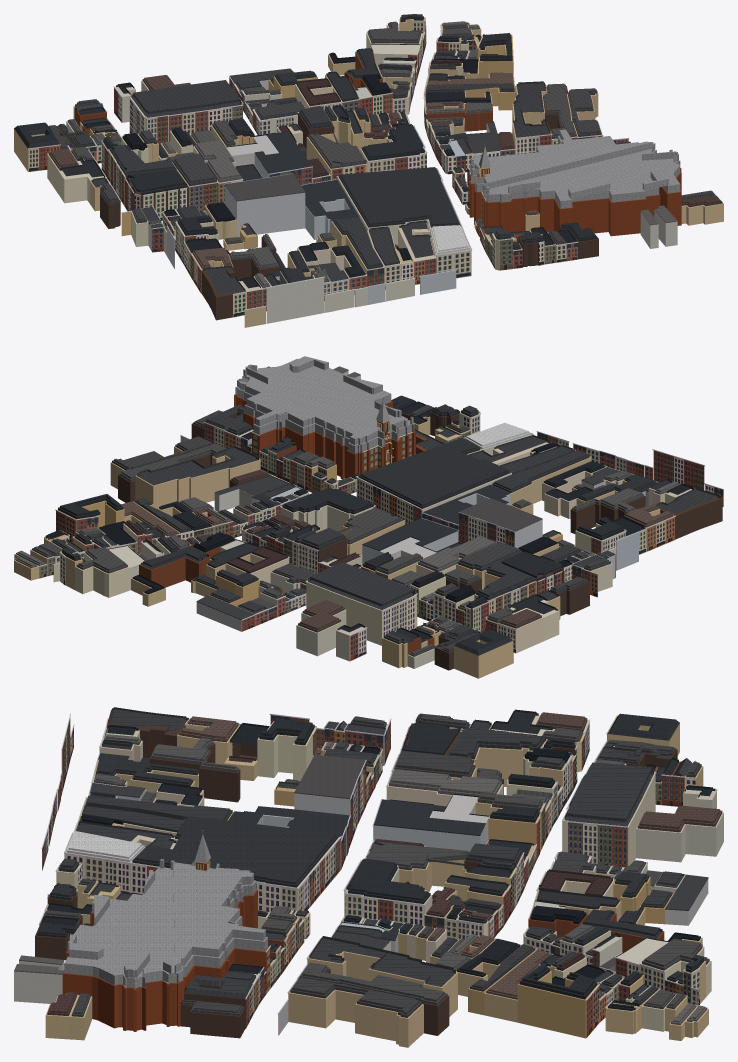
3 renders of one model, top to bottom at view 1: azimuth 30°, elevation 25°; view 2: azimuth 150°, elevation 25°; view 3: azimuth 270°, elevation 25°, orthographic. The views are drawn at different scales.
Parts seen in each view (by area): view 1: bldg_40092556, bldg_40092556_roof_b, bldg_40092556_roof_a, bldg_496053188_roof_b, bldg_496053185, bldg_496123695_roof_b, bldg_496113239_facade0, bldg_496053185_roof, bldg_496052396_roof, bldg_7283574_roof, bldg_495893580_roof_b, bldg_496045627_roof_b (+40 smaller); view 2: bldg_40092556_roof_b, bldg_40092556_roof_a, bldg_496053188_roof_b, bldg_40092556, bldg_495893580, bldg_496123695_roof_b, bldg_496123695, bldg_7285972, bldg_496113239_facade0, bldg_496119452, bldg_496053185_roof, bldg_496052396_roof (+53 smaller); view 3: bldg_40092556_roof_a, bldg_40092556_roof_b, bldg_496053188_roof_b, bldg_40092556, bldg_495893582, bldg_496123695_roof_b, bldg_495893556, bldg_496123696, bldg_496123695_facade4, bldg_496052396_roof, bldg_496053185_roof, bldg_496054970 (+77 smaller).
Boxes of the visible parts, <box> form: bldg_40092556: <box>468,143,681,236</box>; bldg_40092556_roof_b: <box>470,129,678,199</box>; bldg_40092556_roof_a: <box>469,135,680,208</box>; bldg_496053188_roof_b: <box>340,167,458,225</box>; bldg_496053185: <box>224,185,305,237</box>; bldg_496123695_roof_b: <box>133,80,239,114</box>; bldg_496113239_facade0: <box>265,276,324,323</box>; bldg_496053185_roof: <box>224,173,305,201</box>; bldg_496052396_roof: <box>254,131,311,173</box>; bldg_7283574_roof: <box>301,179,359,221</box>; bldg_495893580_roof_b: <box>515,81,548,134</box>; bldg_496045627_roof_b: <box>363,124,423,158</box>; bldg_40092556_roof_b: <box>237,356,413,444</box>; bldg_40092556_roof_a: <box>235,358,414,453</box>; bldg_496053188_roof_b: <box>360,437,508,506</box>; bldg_40092556: <box>234,394,415,478</box>; bldg_495893580: <box>135,455,260,508</box>; bldg_496123695_roof_b: <box>310,562,413,606</box>; bldg_496123695: <box>306,581,416,645</box>; bldg_7285972: <box>454,639,513,678</box>; bldg_496113239_facade0: <box>652,449,705,490</box>; bldg_496119452: <box>75,553,129,597</box>; bldg_496053185_roof: <box>459,498,542,531</box>; bldg_496052396_roof: <box>362,518,457,551</box>; bldg_40092556_roof_a: <box>64,867,267,988</box>; bldg_40092556_roof_b: <box>69,859,265,978</box>; bldg_496053188_roof_b: <box>134,816,336,884</box>; bldg_40092556: <box>62,889,269,1031</box>; bldg_495893582: <box>288,989,423,1047</box>; bldg_496123695_roof_b: <box>566,762,651,821</box>; bldg_495893556: <box>517,971,597,1038</box>; bldg_496123696: <box>636,808,723,862</box>; bldg_496123695_facade4: <box>566,821,628,867</box>; bldg_496052396_roof: <box>374,799,485,835</box>; bldg_496053185_roof: <box>294,755,365,799</box>; bldg_496054970: <box>257,727,315,781</box>.
Size of the model in its own units: 282 by 41.67 by 274.
Materials: 133 (59 with a texture image).
